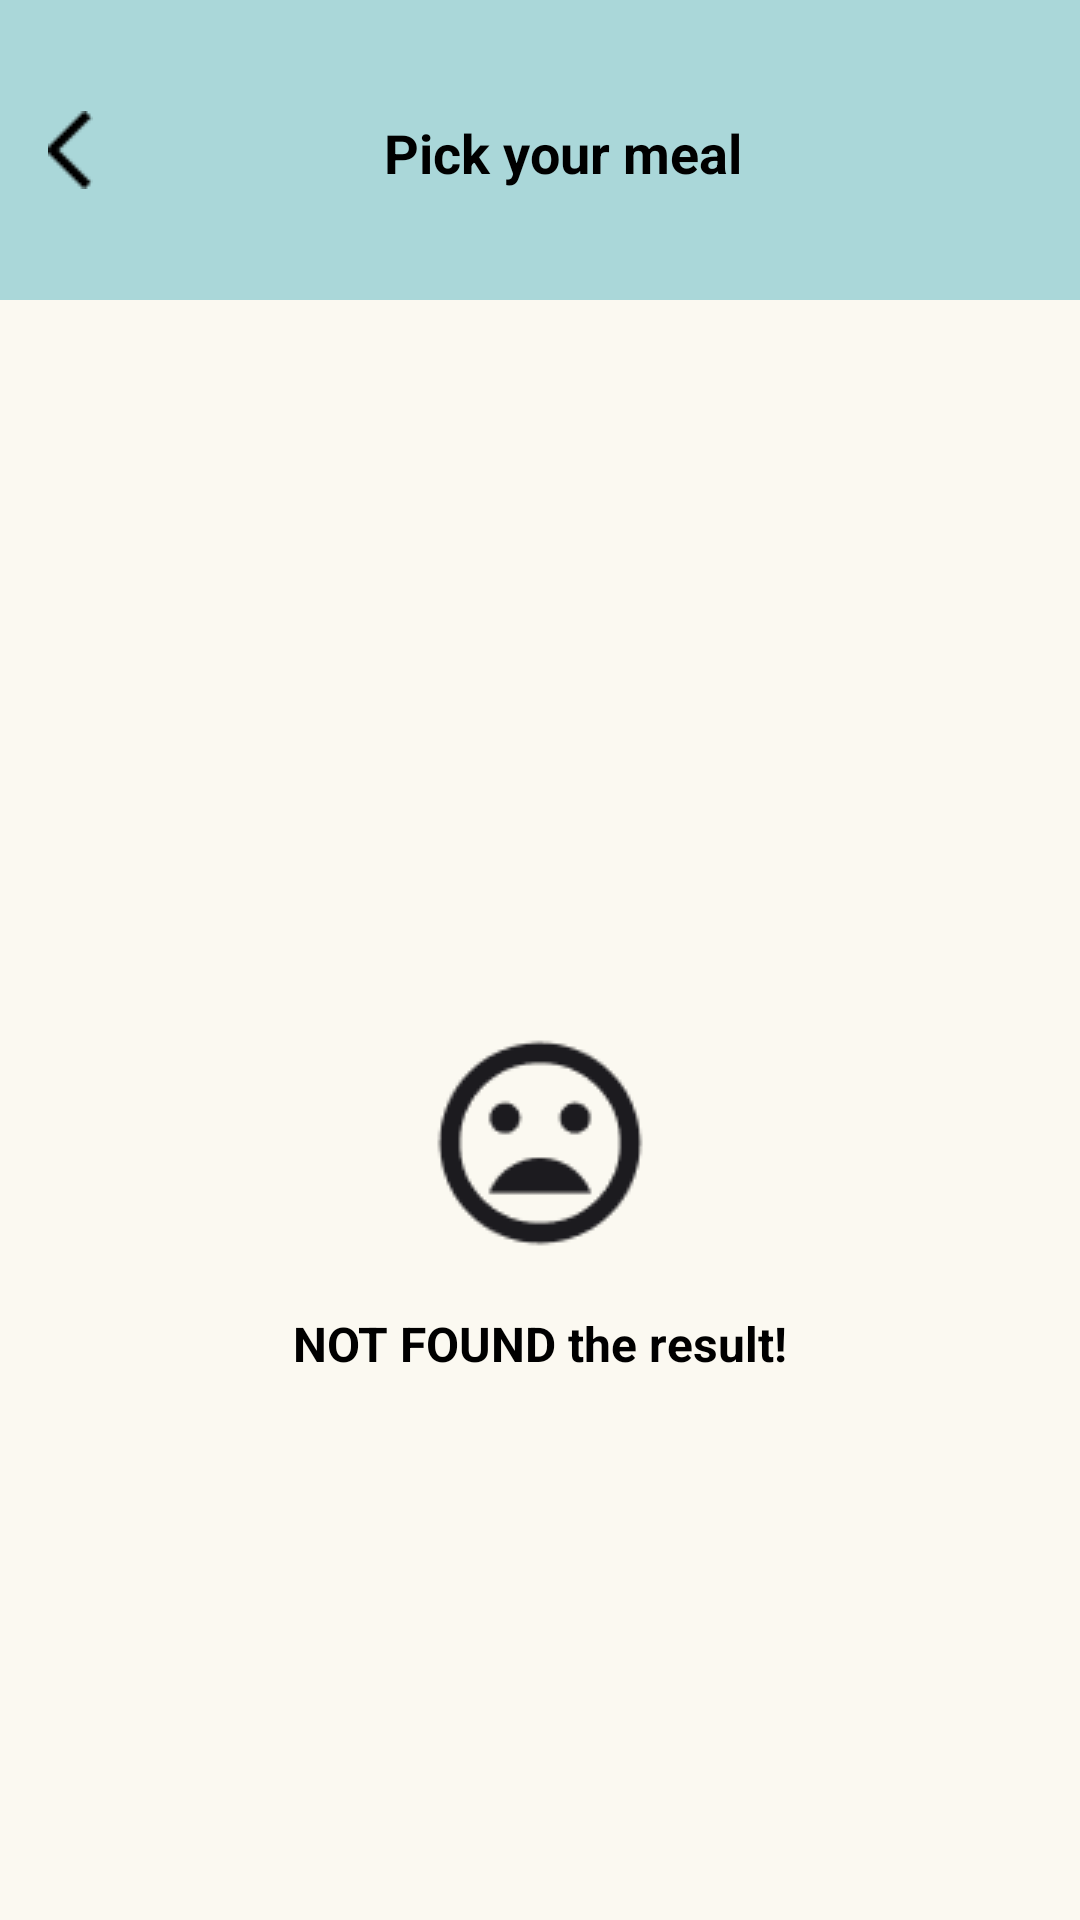

Named icons in this screenshot (1080px×1920px) and their centers, point (x, y):
Go back: point (70, 150)
sad face: point (540, 1143)
